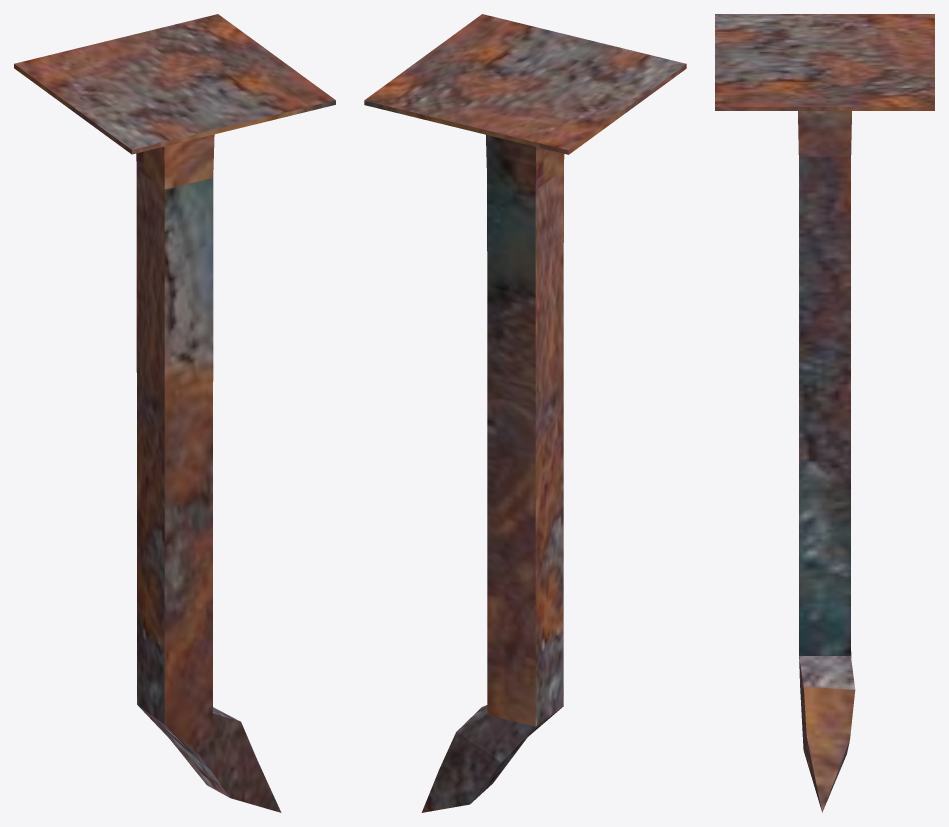
The model's file is nail.obj.
3 renders of one model, left to right at view 1: azimuth 30°, elevation 25°; view 2: azimuth 150°, elevation 25°; view 3: azimuth 270°, elevation 25°, orthographic. The views are drawn at different scales.
Parts seen in each view (by area): view 1: nail_kinked_Cube.002; view 2: nail_kinked_Cube.002; view 3: nail_kinked_Cube.002.
Boxes of the visible parts, x1=… form: nail_kinked_Cube.002: x1=14, y1=14, x2=335, y2=812; nail_kinked_Cube.002: x1=364, y1=14, x2=686, y2=812; nail_kinked_Cube.002: x1=715, y1=14, x2=934, y2=812.
Size of the model in its own units: 18.76 by 65.41 by 18.48.
